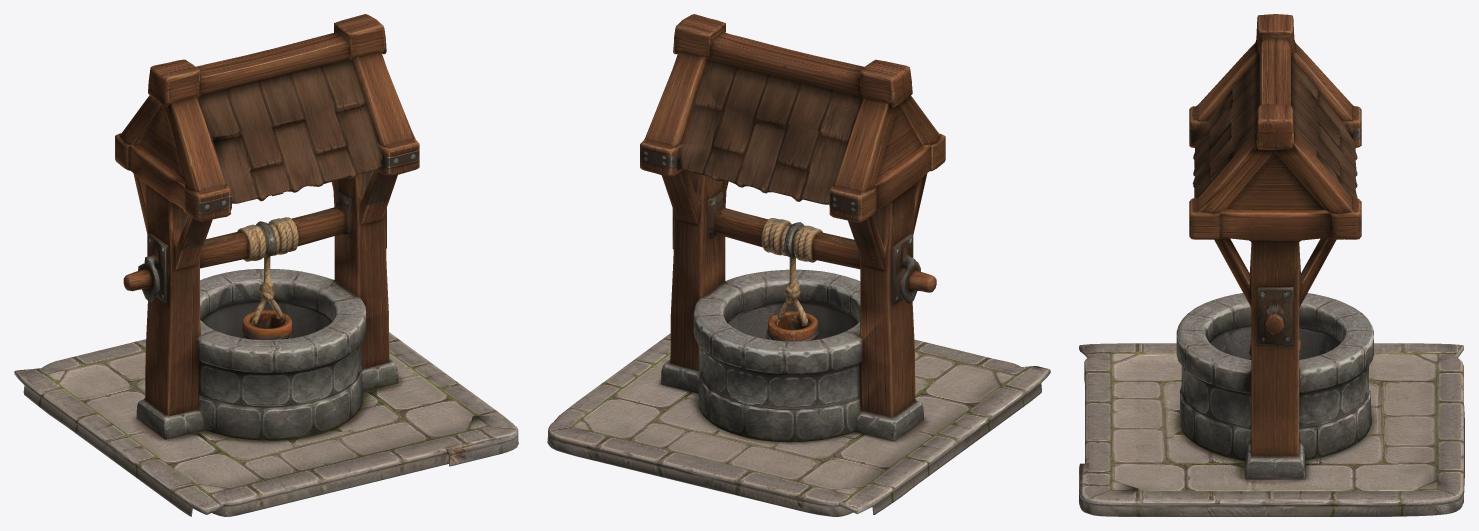
The model's file is Well.glb.
3 renders of one model, left to right at view 1: azimuth 30°, elevation 25°; view 2: azimuth 150°, elevation 25°; view 3: azimuth 270°, elevation 25°, orthographic.
Parts seen in each view (by area): view 1: Mesh_0.001; view 2: Mesh_0.001; view 3: Mesh_0.001.
Boxes of the visible parts, box(x1,y1,x2,y2) form: Mesh_0.001: box(14, 14, 518, 516); Mesh_0.001: box(547, 14, 1050, 516); Mesh_0.001: box(1079, 14, 1464, 516).
Bounding box in the file's own units: 1.77 × 1.91 × 1.8.
Materials: 1 (1 with a texture image).
